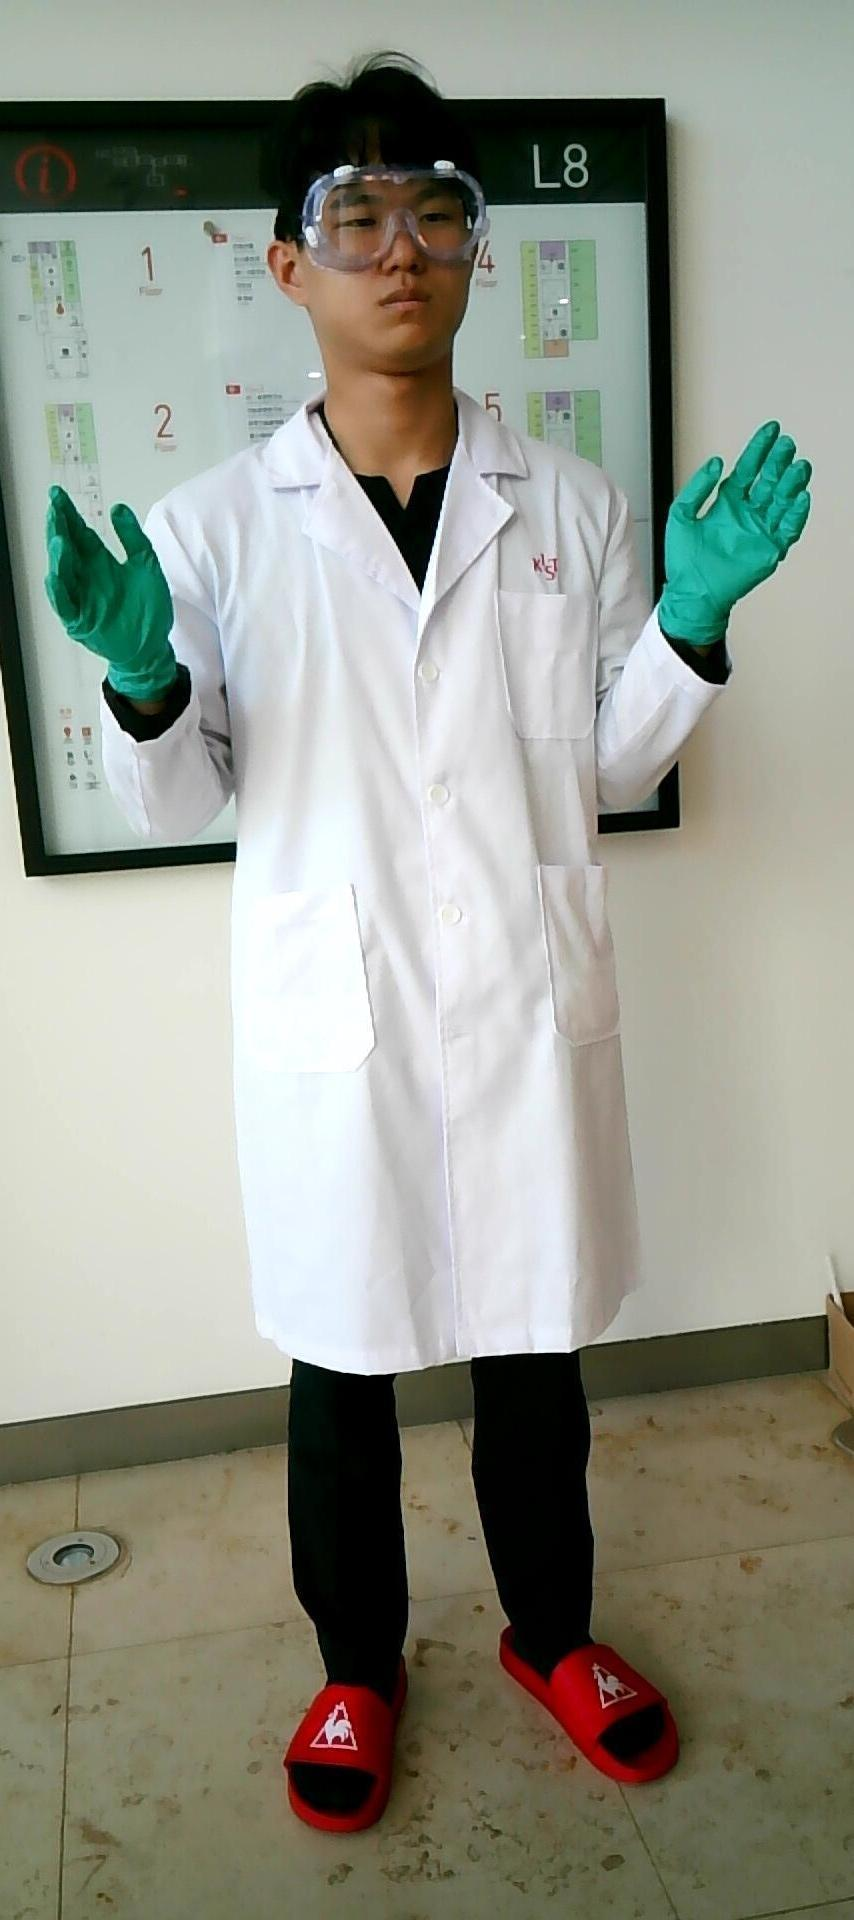lab_coat: (212, 470, 627, 1358)
